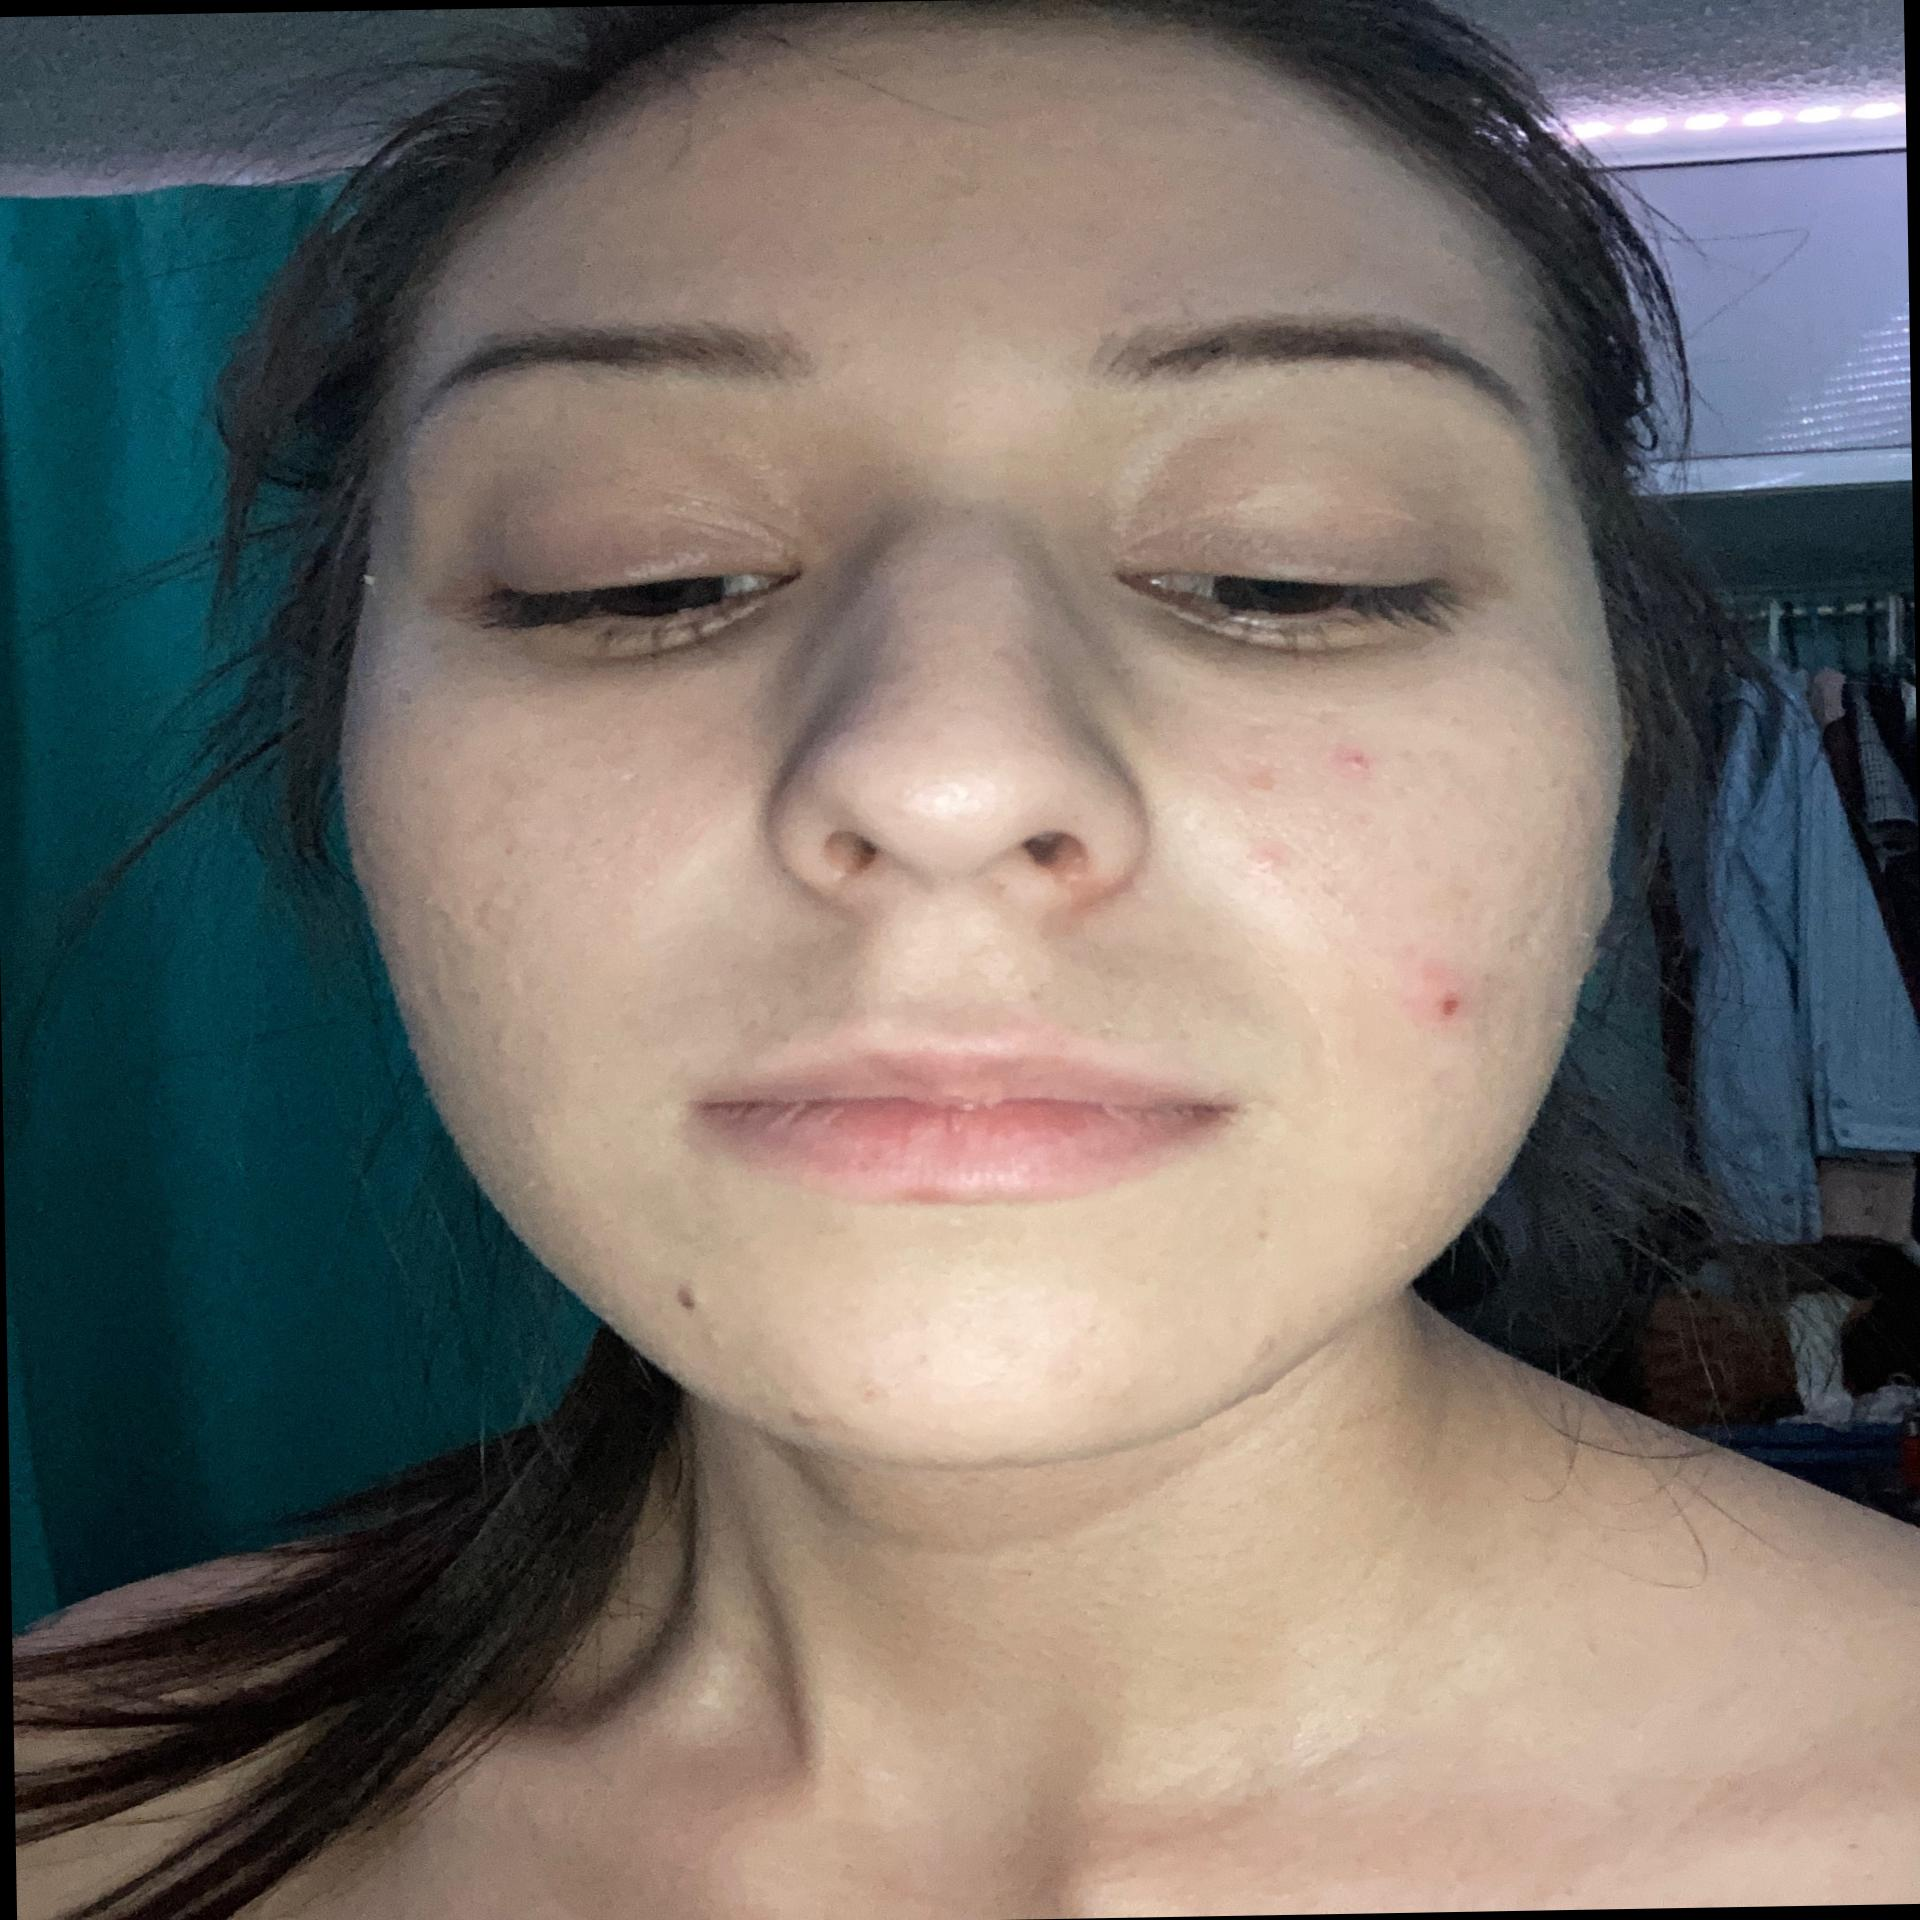Acne: (425, 877, 520, 997), (364, 858, 411, 960), (480, 791, 533, 869), (1421, 979, 1477, 1041), (1271, 179, 1347, 218), (1238, 763, 1289, 809), (1243, 839, 1299, 874), (1231, 1217, 1282, 1255), (767, 1398, 812, 1433), (844, 1375, 879, 1407), (1254, 1324, 1282, 1363), (1343, 747, 1373, 782), (897, 1345, 934, 1373), (960, 174, 981, 222), (517, 1113, 542, 1150), (480, 1027, 503, 1053), (535, 1025, 543, 1046)
Dark Circles: (1094, 577, 1502, 696), (520, 559, 823, 698)
